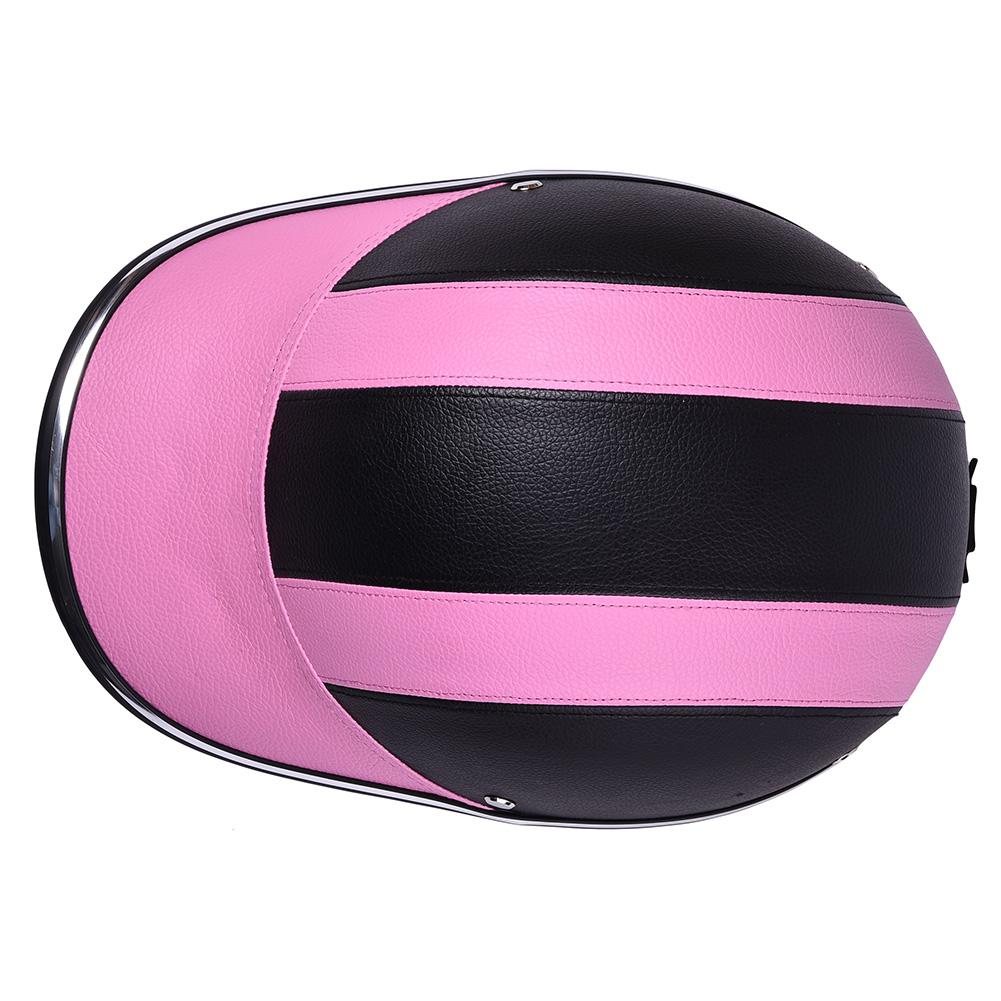Helmet: (19, 130, 982, 847)
